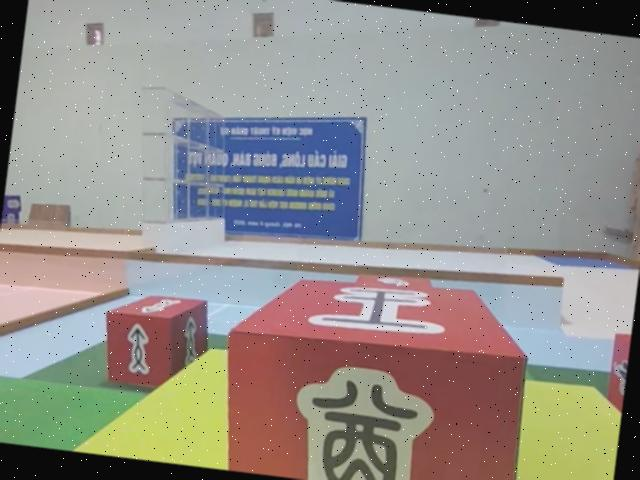R1: (600, 327, 632, 439)
R2 Fake: (213, 257, 542, 480)
R2 Real: (95, 285, 215, 396)
